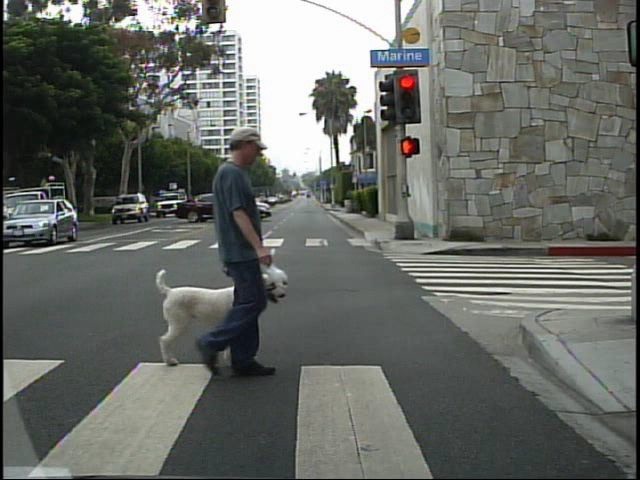person: (163, 119, 302, 386)
